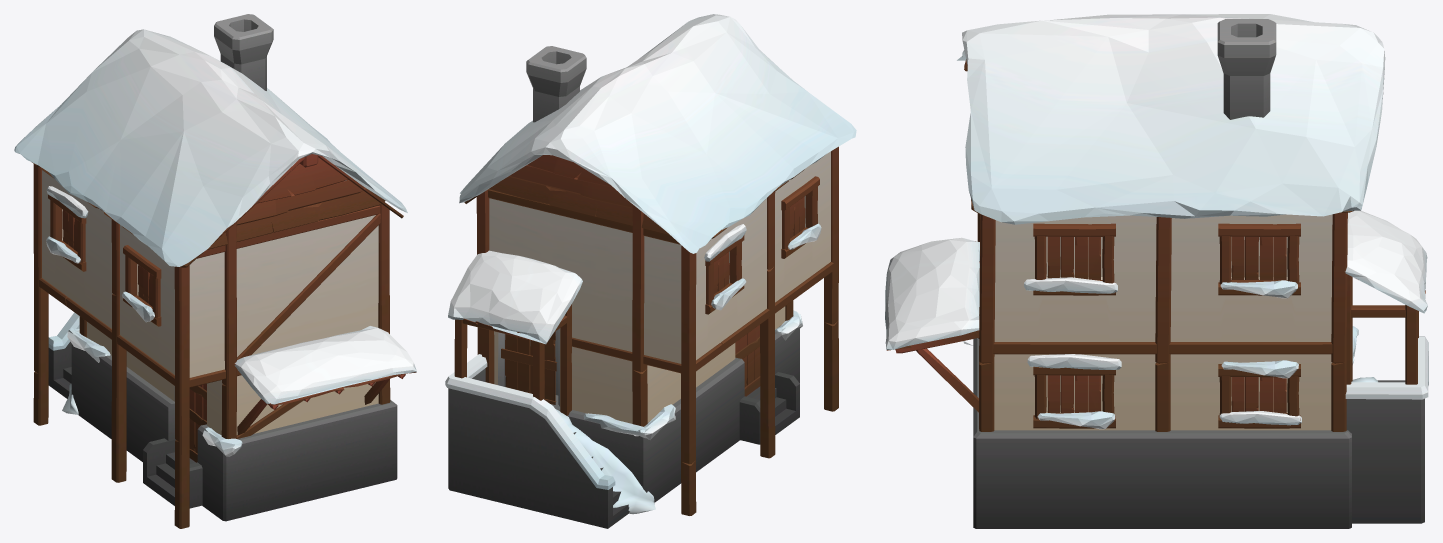
3 views of the same model, side by side, from view 1: azimuth 30°, elevation 25°; view 2: azimuth 150°, elevation 25°; view 3: azimuth 270°, elevation 25° (orthographic). The views are drawn at different scales.
Visible parts, largest first — view 1: SnowyTownHouse1; view 2: SnowyTownHouse1; view 3: SnowyTownHouse1.
Boxes of the visible parts, x1,y1,x2,y2 form: SnowyTownHouse1: [14, 14, 416, 528]; SnowyTownHouse1: [445, 14, 856, 528]; SnowyTownHouse1: [885, 14, 1428, 528].
Size of the model in its own units: 8.33 by 12.27 by 12.76.
Materials: 1 (1 with a texture image).
